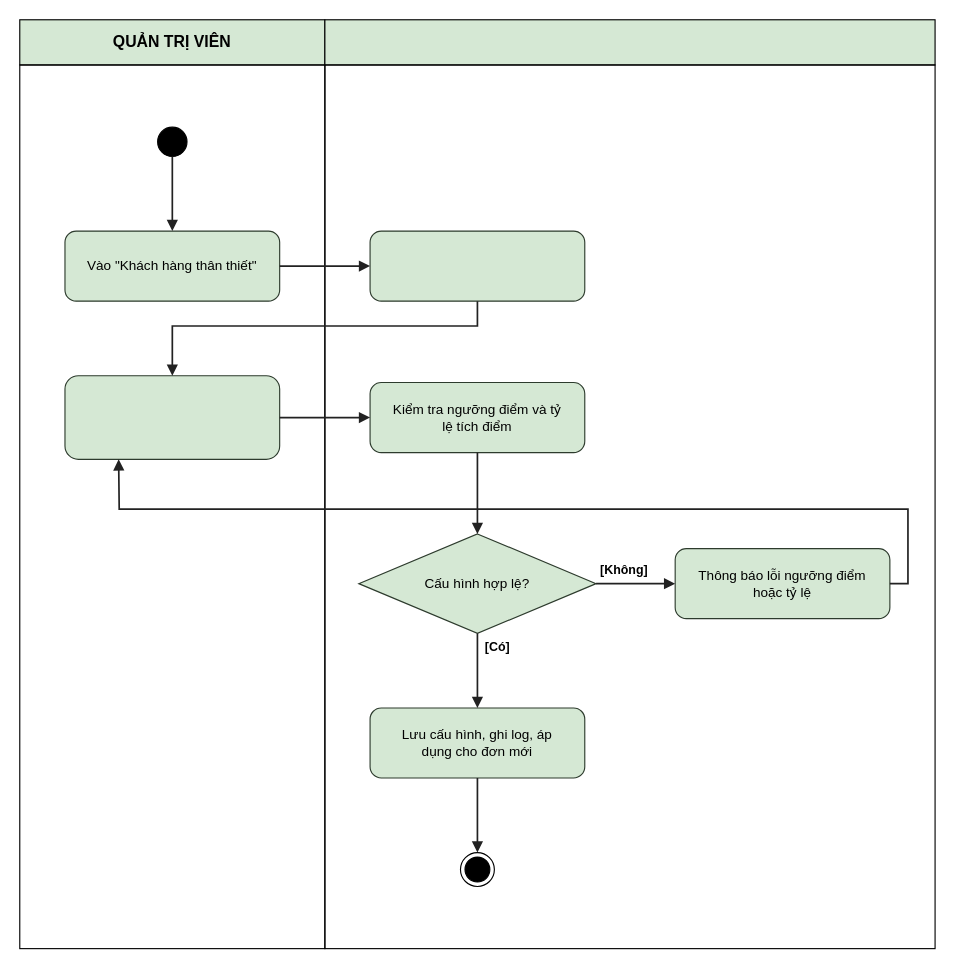
This 955x968 diagram has some shape labels left out. The centre of each missing label's shape, as x and y in pixels:
Chỉnh hạng thành viên và quy tắc tích điểm, click "Lưu": [172,417]
Hiển thị cấu hình hiện hành: [477,265]
HỆ THỐNG: [629,42]
